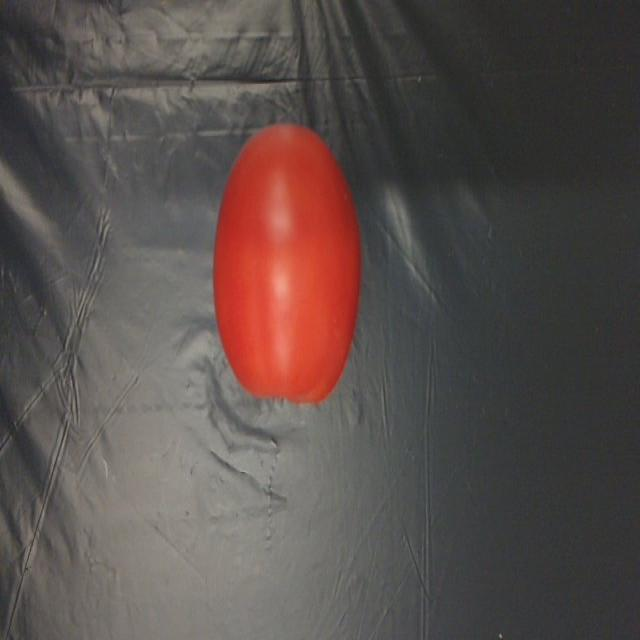kirmizi: (213, 114, 366, 421)
